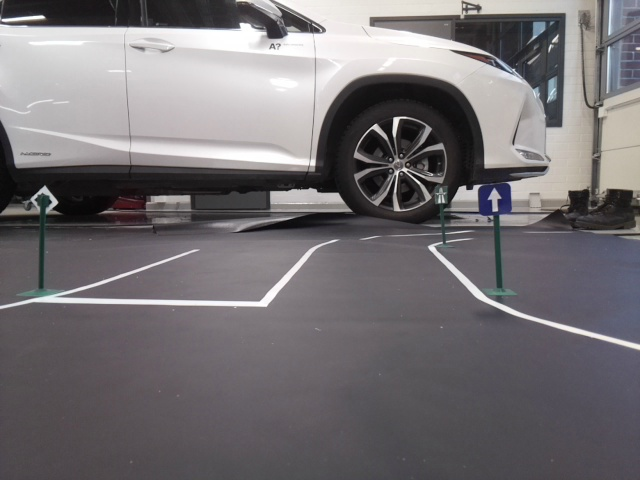HighwayEntrance: (433, 186, 447, 205)
OneWay: (479, 183, 511, 212)
